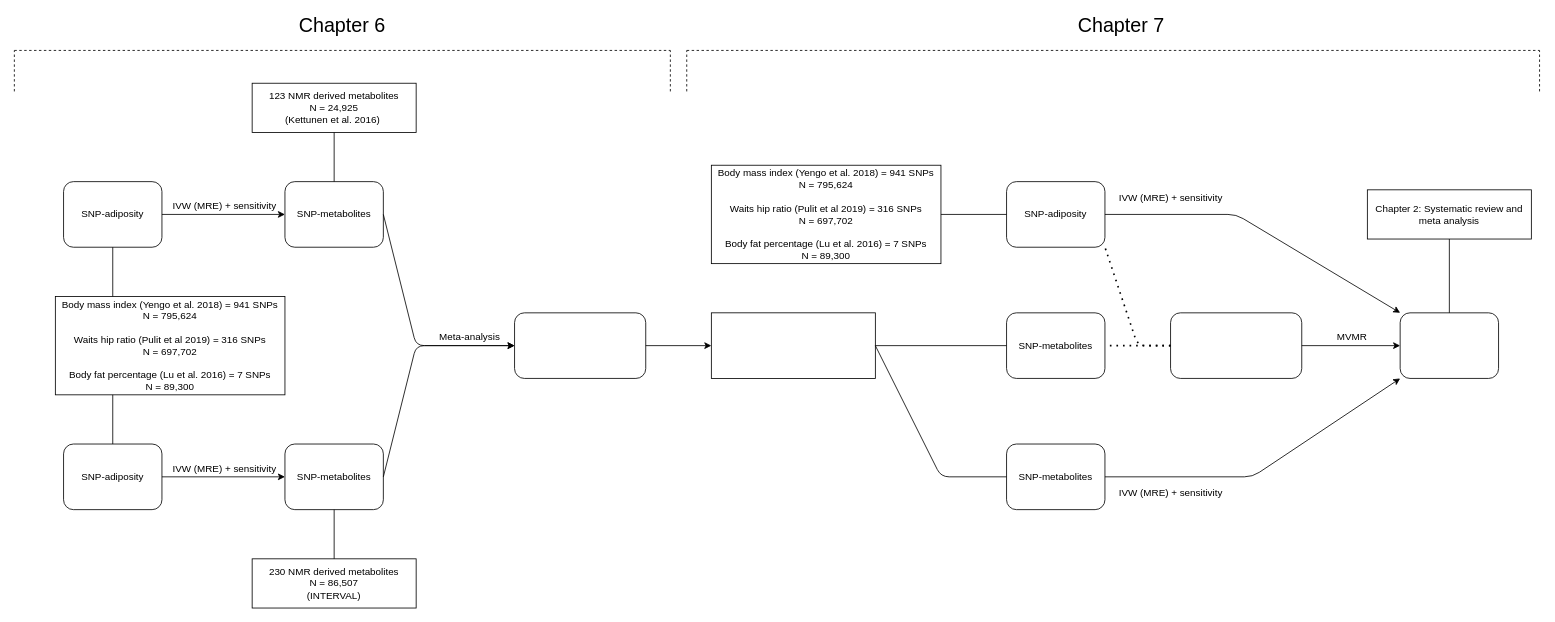
Image size: 1555x622. Some labels were removed from this diagram. The box of each missing label's shape, as (x1, y1, x2, y2) in pixels:
110 NMR derived metabolites N = 111,432: (514, 312, 646, 378)
SNP-adiposity-metabolites: (1170, 312, 1302, 378)
SNP-outcomes: (1399, 312, 1499, 378)
XXX NMR derived metabolites UK Biobank (N = 118,466): (711, 312, 875, 378)
